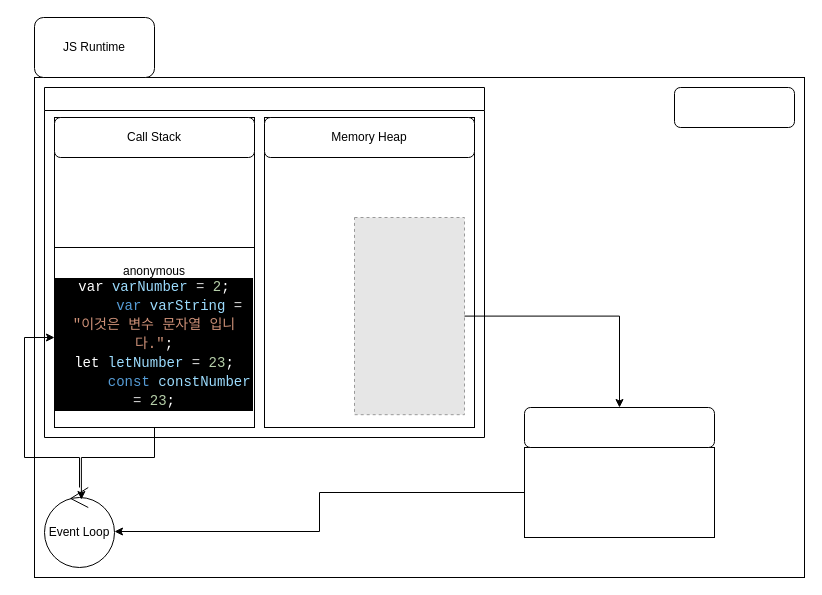
Image size: 822x595. Some labels were removed from this diagram. Grey dashed boxes stand in for pictures. Here are the shapes that lost their labels. From the top down, the box of each, then its label:
(674, 86, 794, 128): Web API
(44, 86, 484, 438): Javascript Engine
(524, 406, 714, 448): Callback Queue
